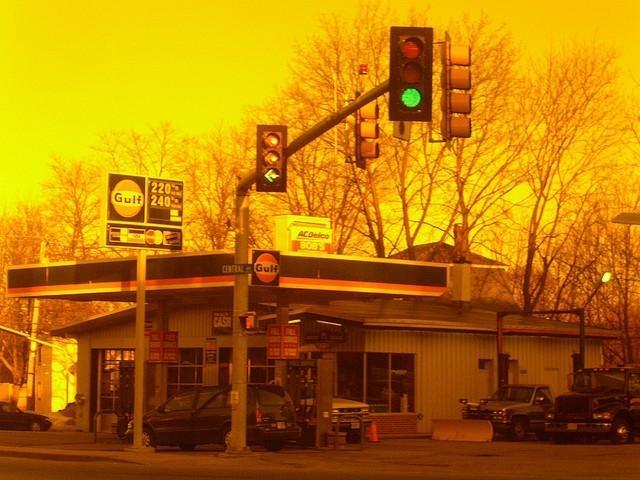car: (125, 384, 302, 451), (545, 367, 640, 445), (0, 400, 51, 430)
truck: (541, 361, 640, 446), (456, 384, 554, 439), (332, 398, 371, 443)
